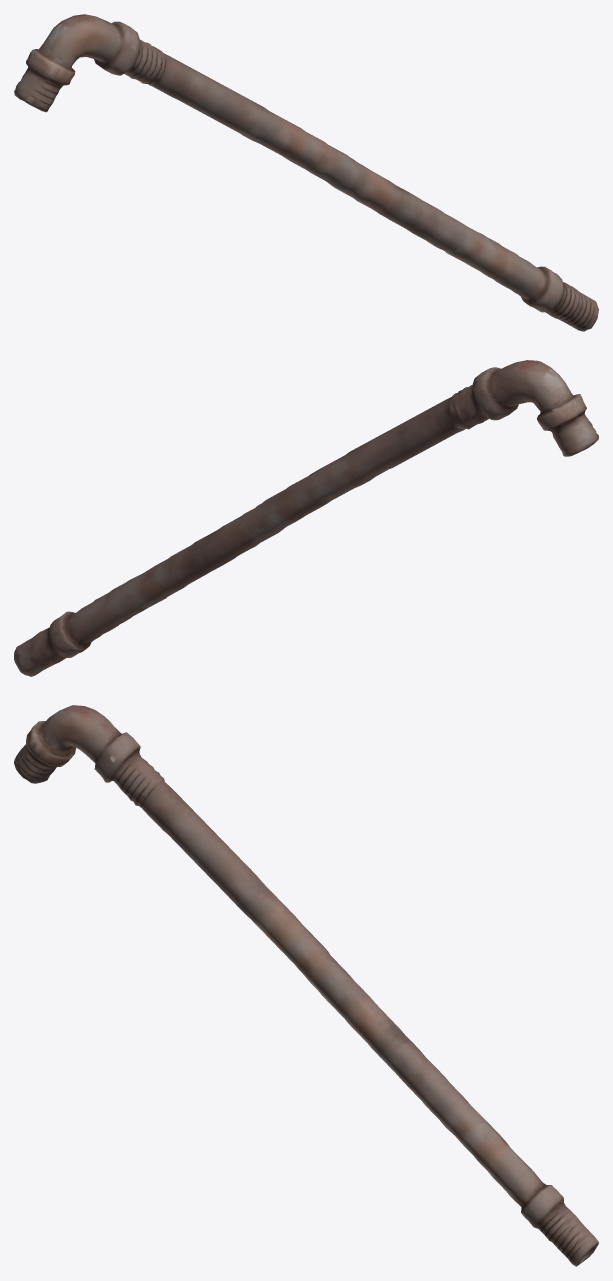
The model's file is Meshy_AI_Pipe_Connector_Illust_0130155102_texture.fbx.
3 views of the same model, one above another, from view 1: azimuth 30°, elevation 25°; view 2: azimuth 150°, elevation 25°; view 3: azimuth 330°, elevation 25° (orthographic).
Parts seen in each view (by area): view 1: Mesh_0; view 2: Mesh_0; view 3: Mesh_0.
Boxes of the visible parts, <box> form: Mesh_0: <box>14,14,598,331</box>; Mesh_0: <box>14,360,598,676</box>; Mesh_0: <box>14,705,598,1266</box>.
Size of the model in its own units: 200 by 143 by 14.84.
1 material, 1 textured.
